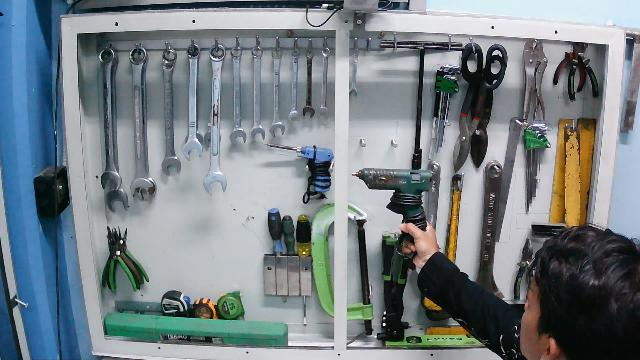gun_lem: (352, 164, 435, 260)
